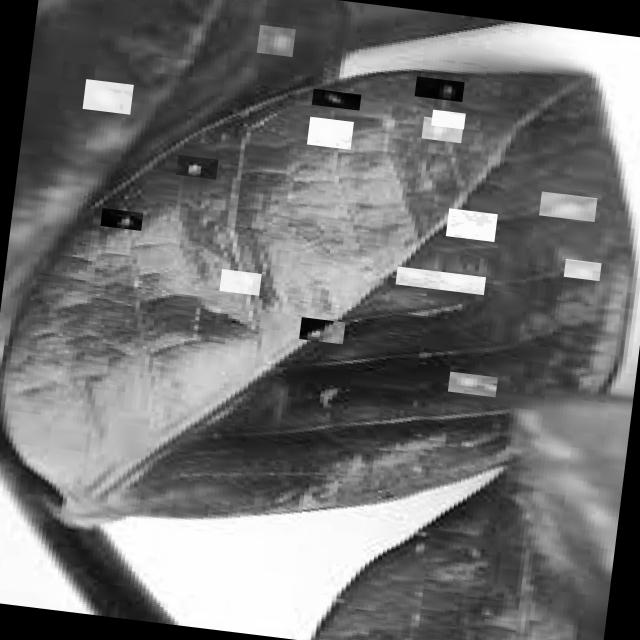scale_insect: (81, 78, 132, 114), (538, 190, 596, 221), (444, 207, 496, 241), (306, 115, 352, 148), (446, 371, 496, 397), (413, 76, 463, 102), (298, 316, 344, 344), (255, 24, 294, 56), (434, 270, 484, 294), (218, 268, 260, 296), (310, 88, 360, 110), (420, 116, 462, 142), (394, 266, 440, 289), (175, 154, 217, 178), (99, 208, 142, 230), (562, 258, 600, 280), (430, 108, 464, 128)
